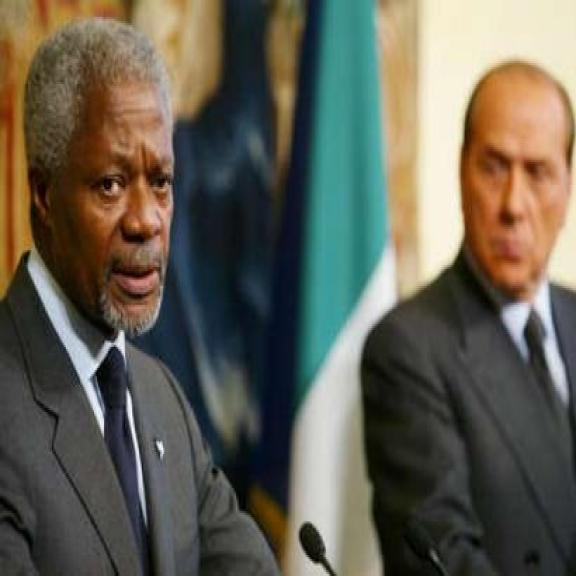face: (21, 68, 174, 336), (460, 82, 568, 291)
